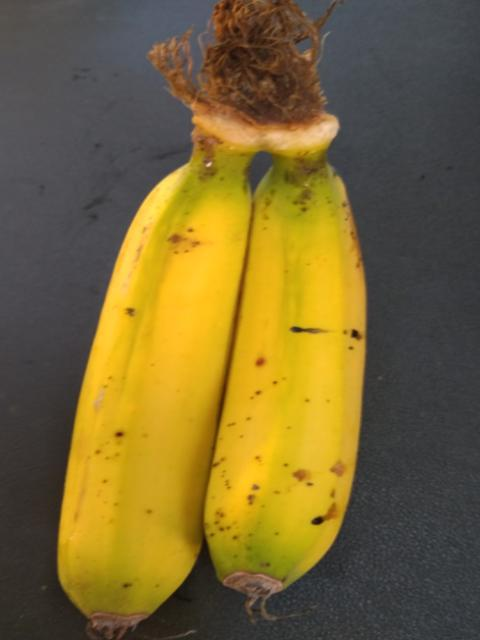freshripe: (39, 168, 256, 639)
ripe: (184, 172, 396, 632)
